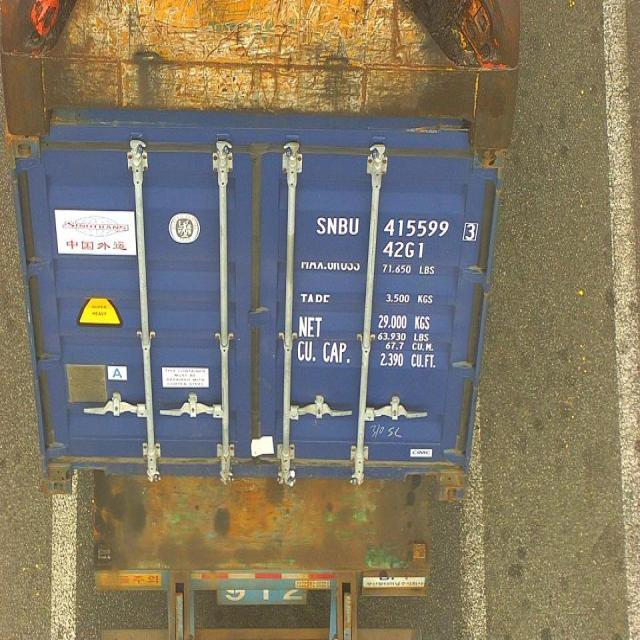ISO: (382, 241, 426, 263)
container_number: (315, 214, 480, 242)
